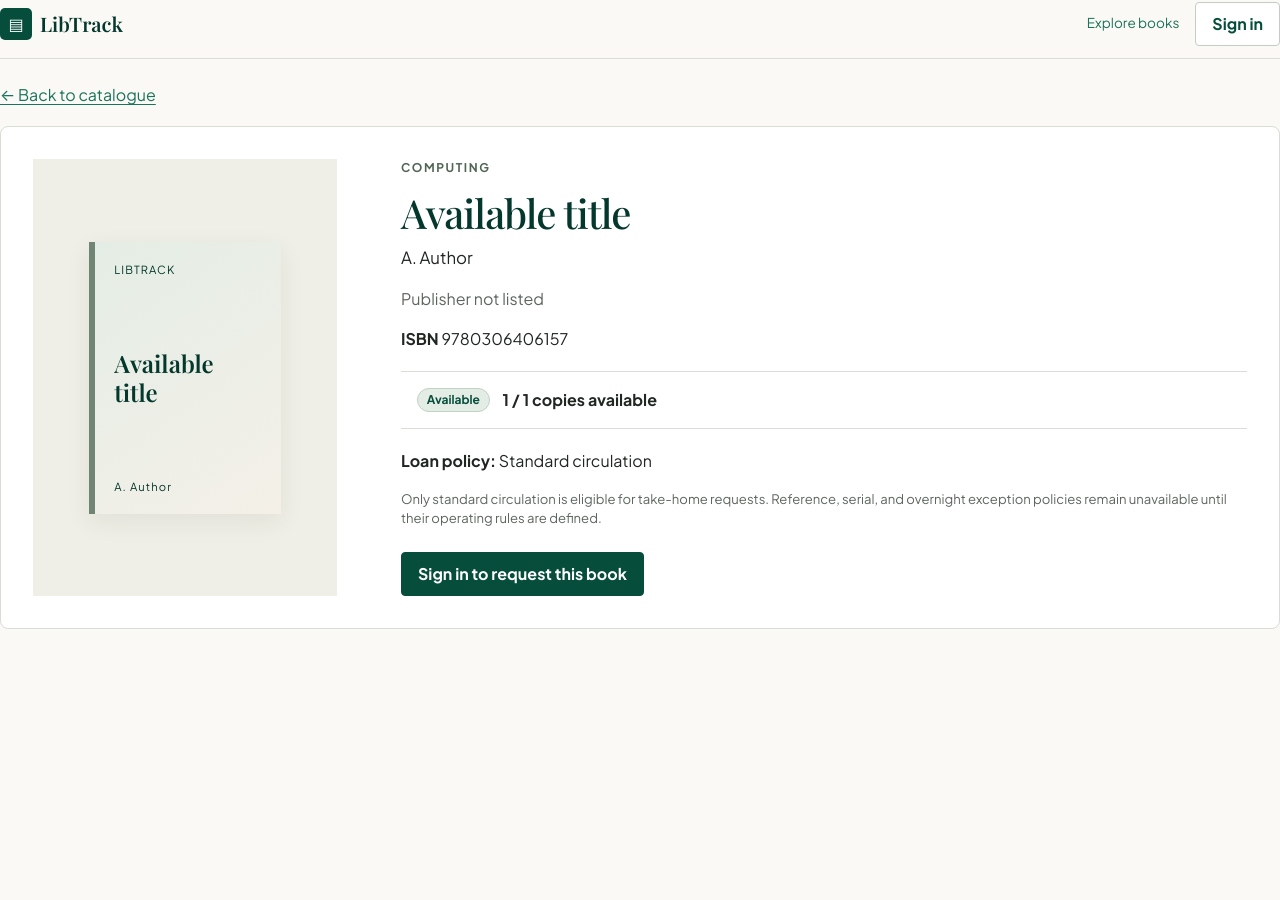
Scenario: BookDetailComponent public reservation guard › opens sign-in for a visitor and sends no borrowing request before authentication
Click the button "Sign in to request this book".
click(522, 574)  # box [401,552,644,596]
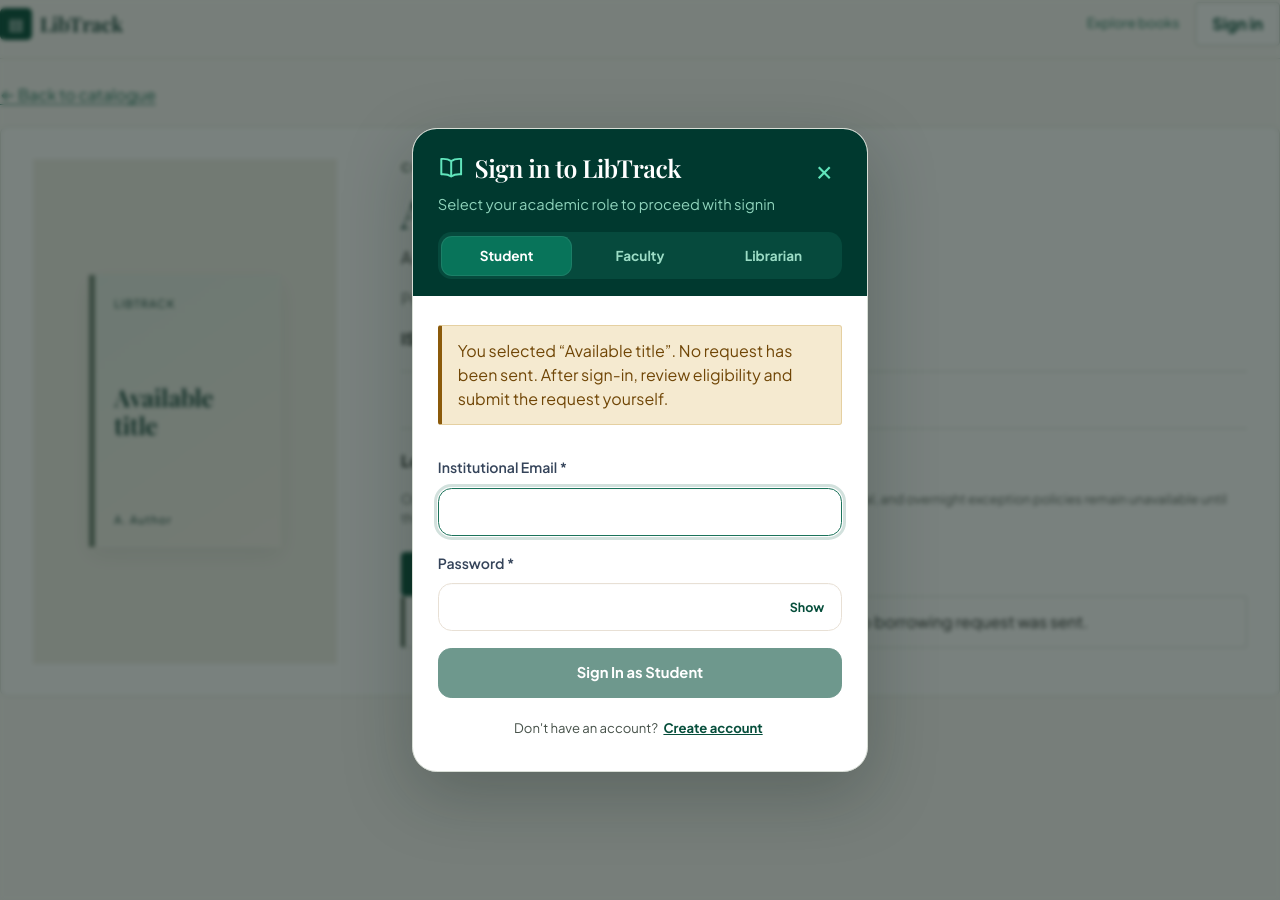
Expected: the text "Authentication Required: Please sign in to reserve books." is shown, [421,611,1088,632]
Expected: the dialog with class "sign-in-dialog" is shown, [412,128,868,772]
